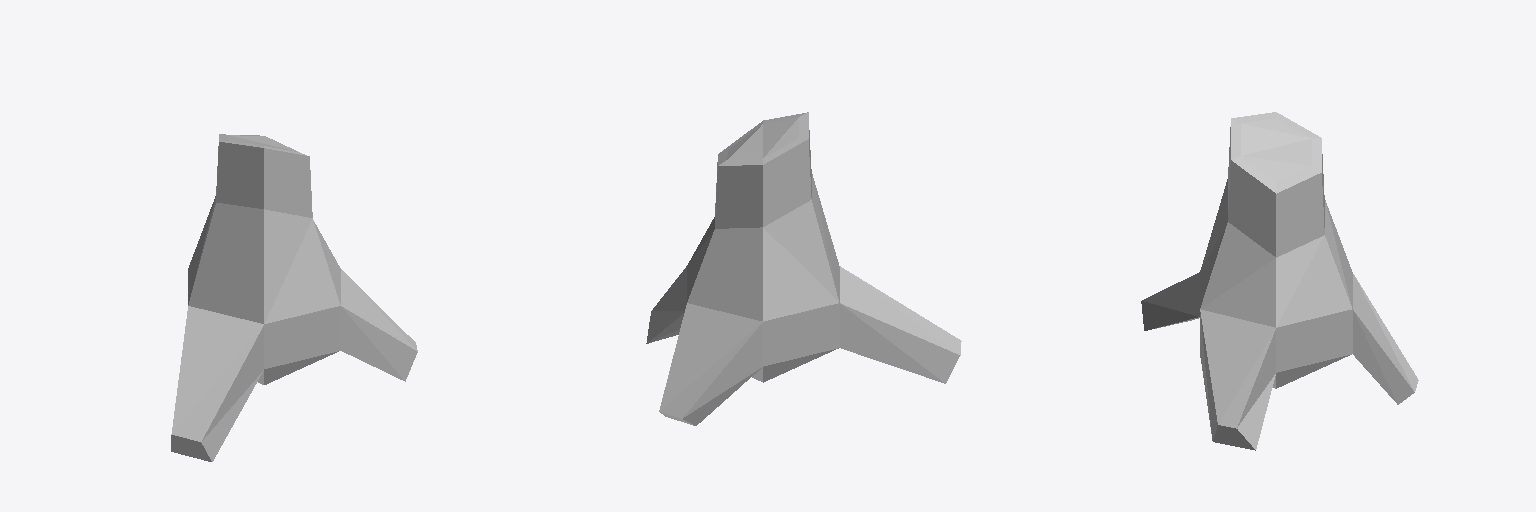
File: SM_Env_Tree_Stump_03.obj
The picture shows the model from 3 angles: view 1: azimuth 30°, elevation 25°; view 2: azimuth 150°, elevation 25°; view 3: azimuth 270°, elevation 25°; orthographic projection.
Size of the model in its own units: 77.28 by 69.16 by 67.06.